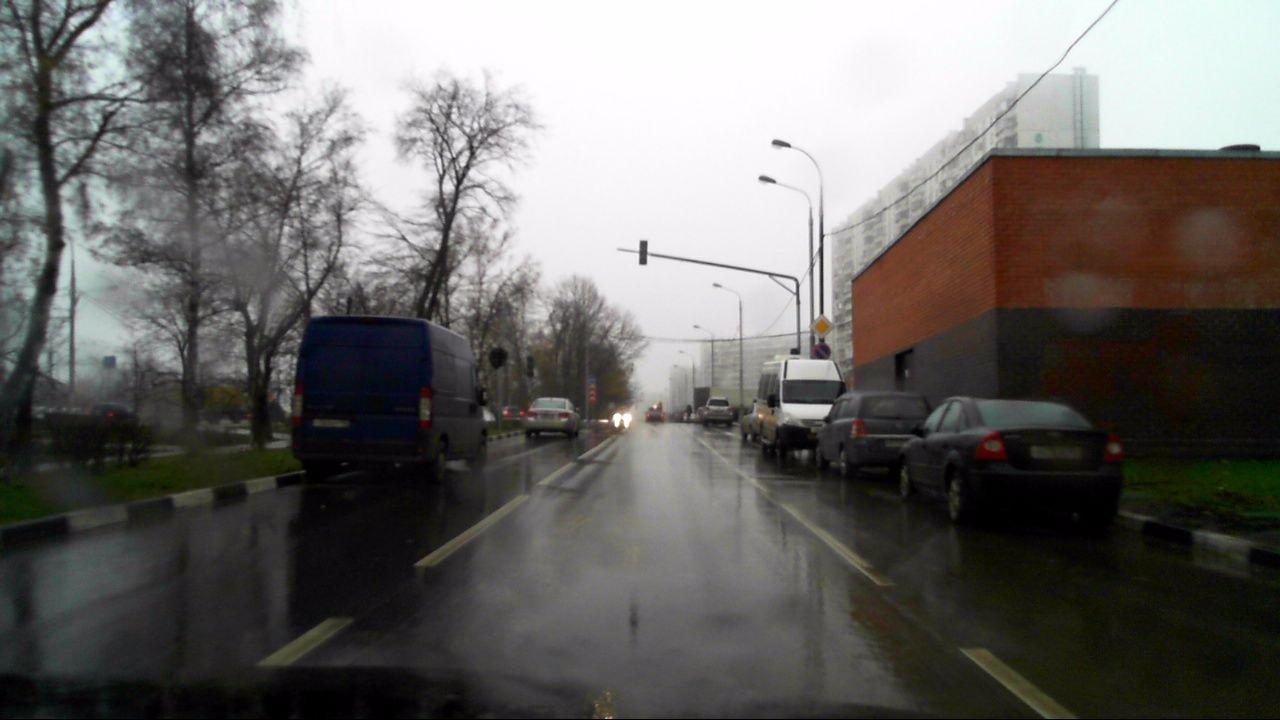2_1: (809, 313, 833, 337)
3_28: (812, 341, 830, 359)
